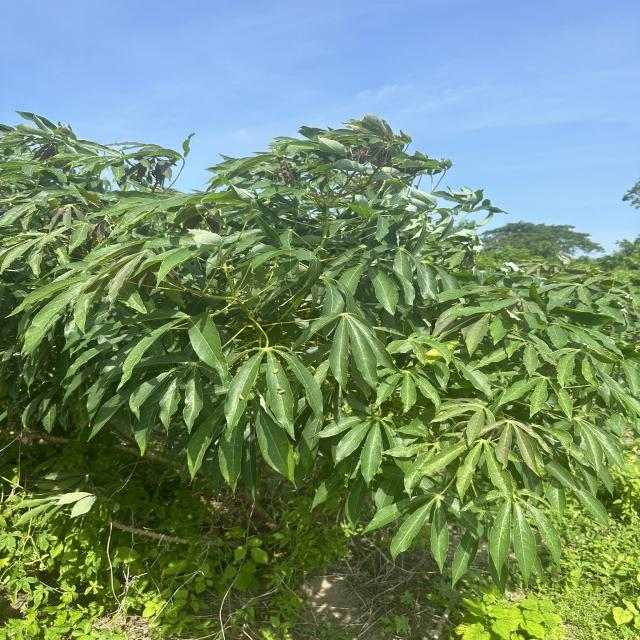Maleza: (1, 489, 285, 640), (453, 594, 640, 640)
Mosca: (266, 361, 282, 381), (234, 389, 248, 406), (431, 404, 445, 419), (275, 384, 289, 395)
